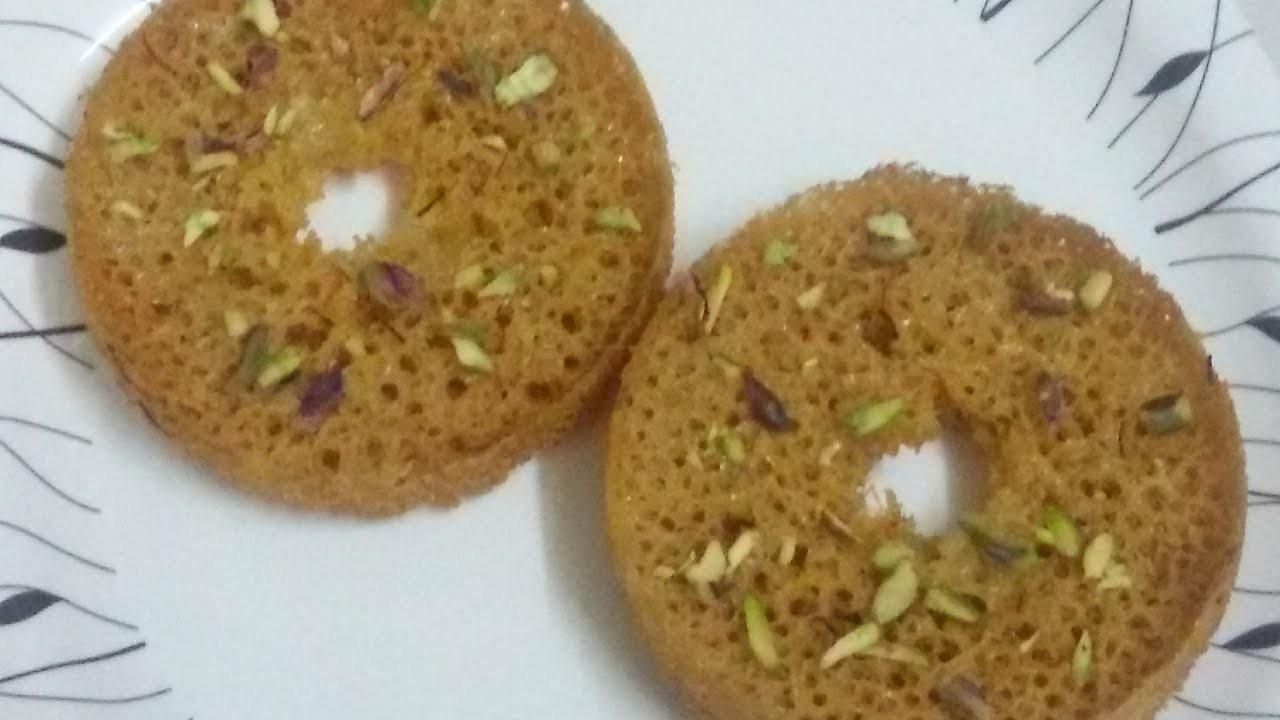Ghevar: (601, 163, 1249, 720), (64, 0, 677, 519)
